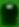black: (0, 0, 19, 27)
